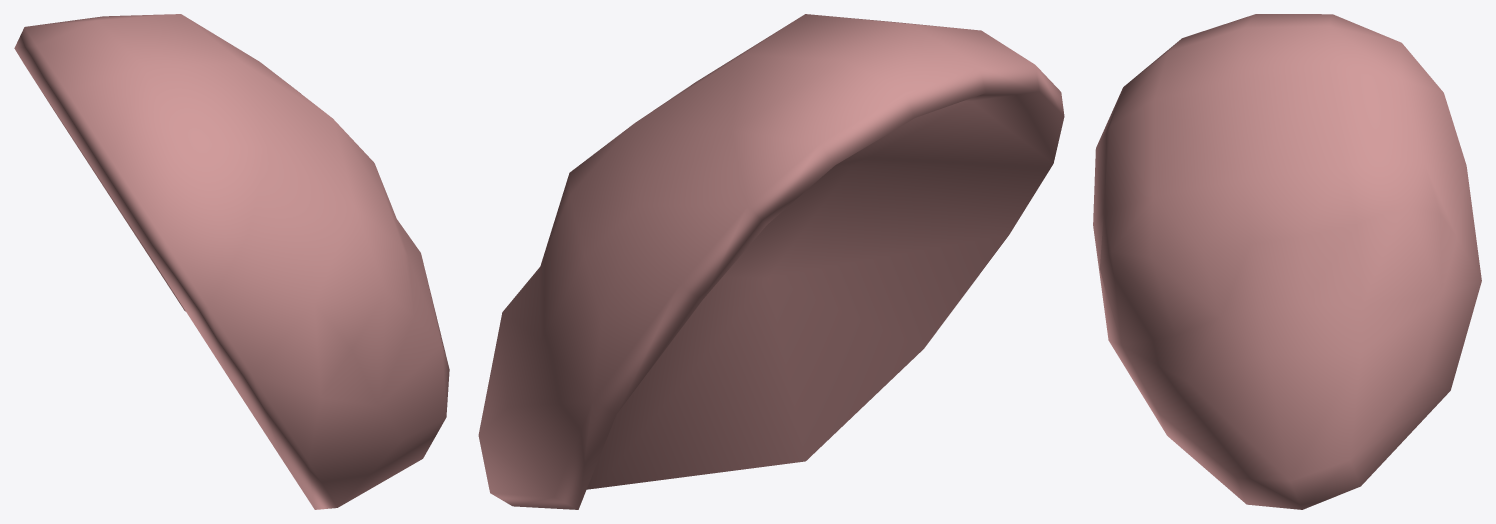
Rendered from alien_mask.fbx.
3 renders of one model, left to right at view 1: azimuth 30°, elevation 25°; view 2: azimuth 150°, elevation 25°; view 3: azimuth 270°, elevation 25°, orthographic. The views are drawn at different scales.
Parts seen in each view (by area): view 1: alien_mask_m; view 2: alien_mask_m; view 3: alien_mask_m.
Part boxes in pixels (x1,y1,x2,y2): alien_mask_m: (14, 14, 449, 509); alien_mask_m: (478, 14, 1064, 509); alien_mask_m: (1093, 14, 1481, 509).
Bounding box in the file's own units: 7.92 × 8.63 × 8.09.
